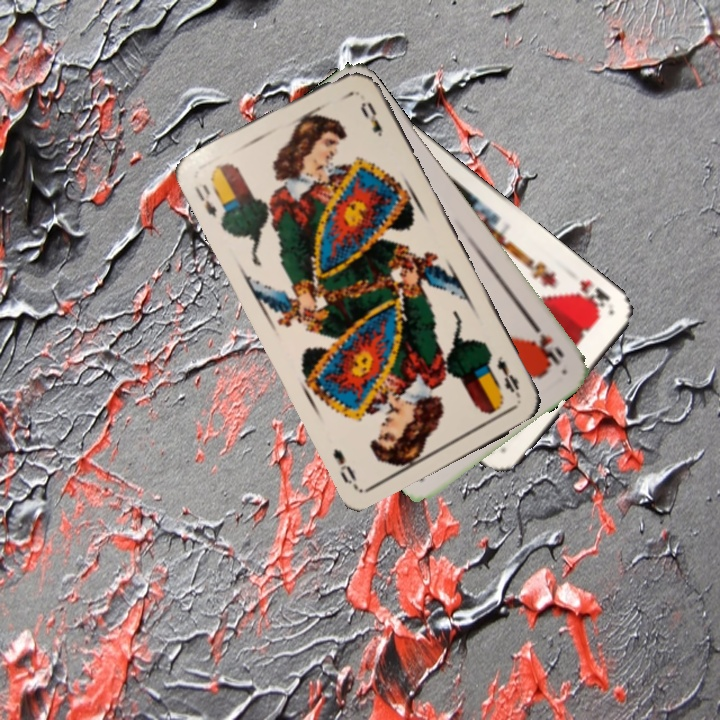EO: (492, 352, 524, 401), (190, 180, 220, 221)
HK: (572, 275, 613, 314)
HO: (527, 317, 567, 368)
